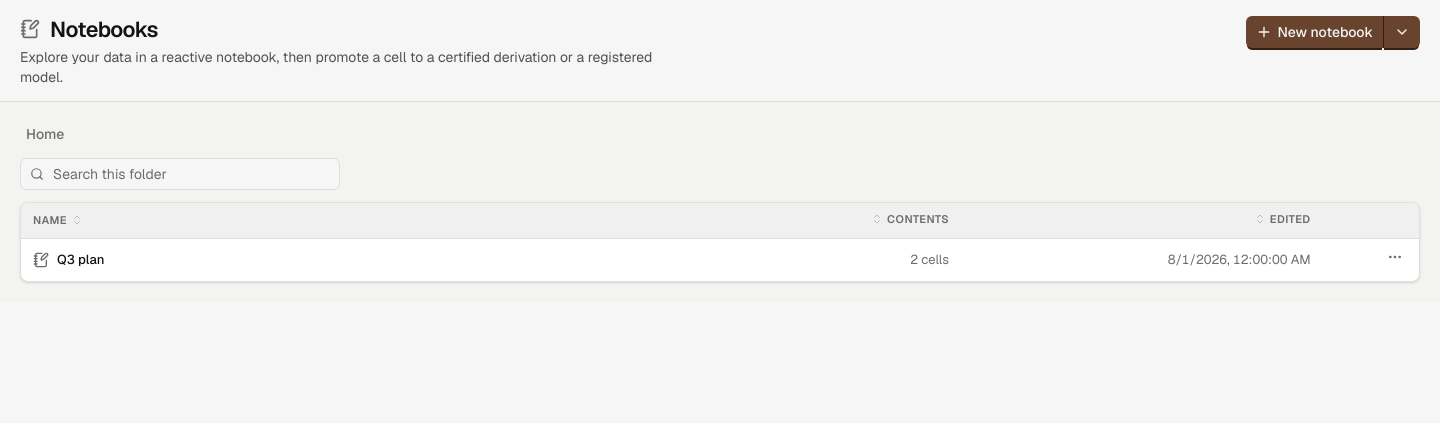
Test case: NotebooksPage rows › deletes from the row menu without opening the notebook it just deleted
This screenshot has width=1440, height=423.
Check: the text "Q3 plan" is shown, box [57,250,104,270]
Click the button named "Row actions" at (1395, 257), box [1383,245,1407,269]
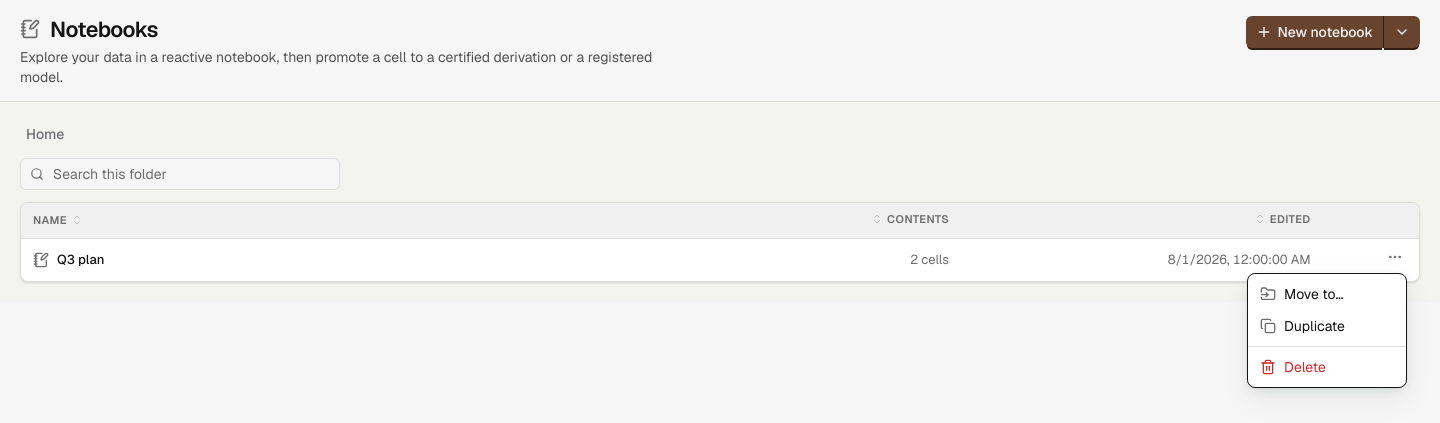
Click the menu item "Delete" at (1293, 367), box [1260,358,1326,376]
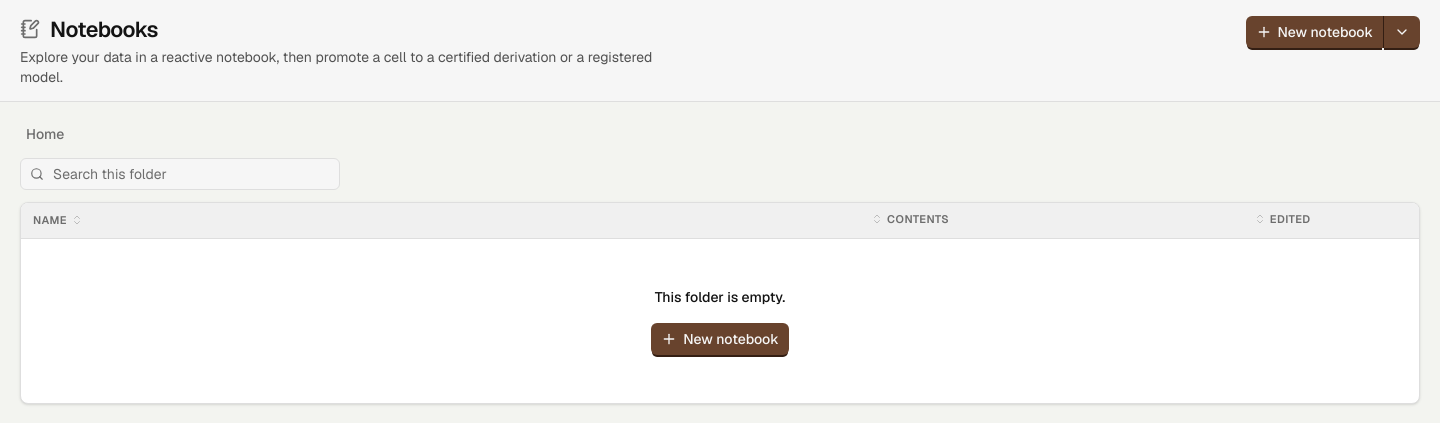
Check: the text "Q3 plan" is gone
